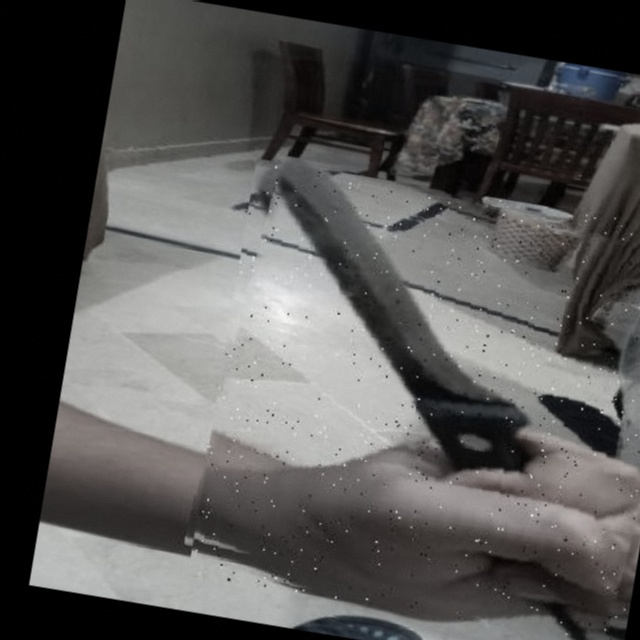Sharp-Object: (187, 158, 640, 640)
